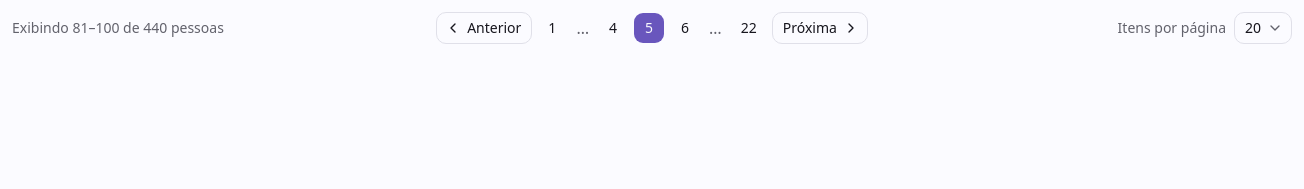
Test: Pagination › items per page › offers 10, 20, 50 and 100
Click the dropdown named "Itens por página". click: (1263, 28)
box: top-left (1234, 12), bottom-right (1292, 44)
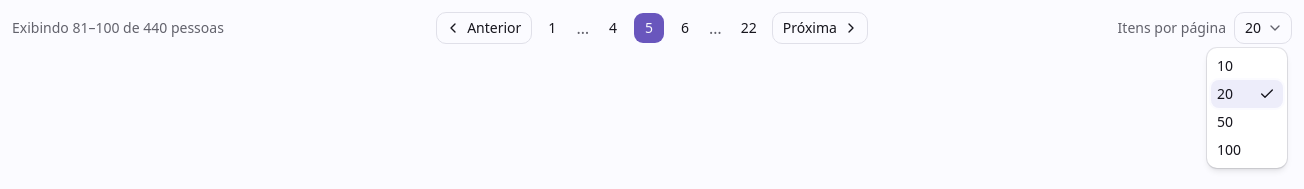
Result: the options read "10", "20", "50", "100", in this order at top-left (1217, 56), bottom-right (1233, 75); top-left (1211, 80), bottom-right (1283, 108); top-left (1217, 112), bottom-right (1233, 131); top-left (1217, 140), bottom-right (1241, 159)
